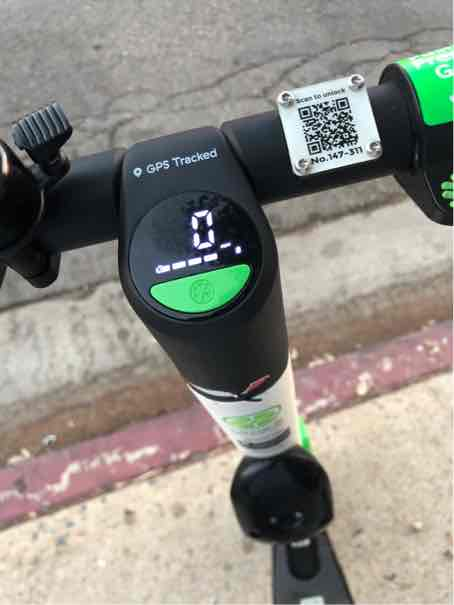scooter: (10, 48, 444, 605)
